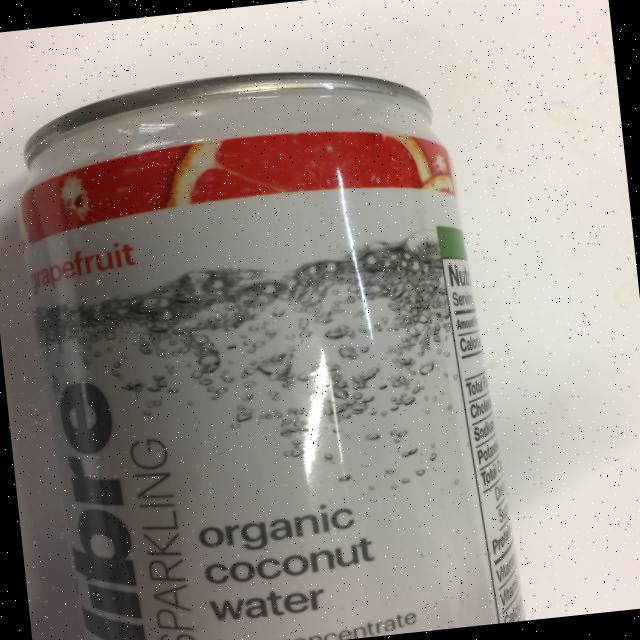metal: (4, 49, 525, 640)
